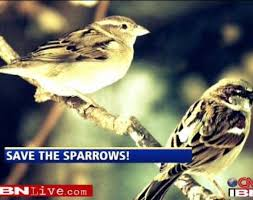hsparrow: (1, 10, 158, 110), (130, 72, 253, 196)
